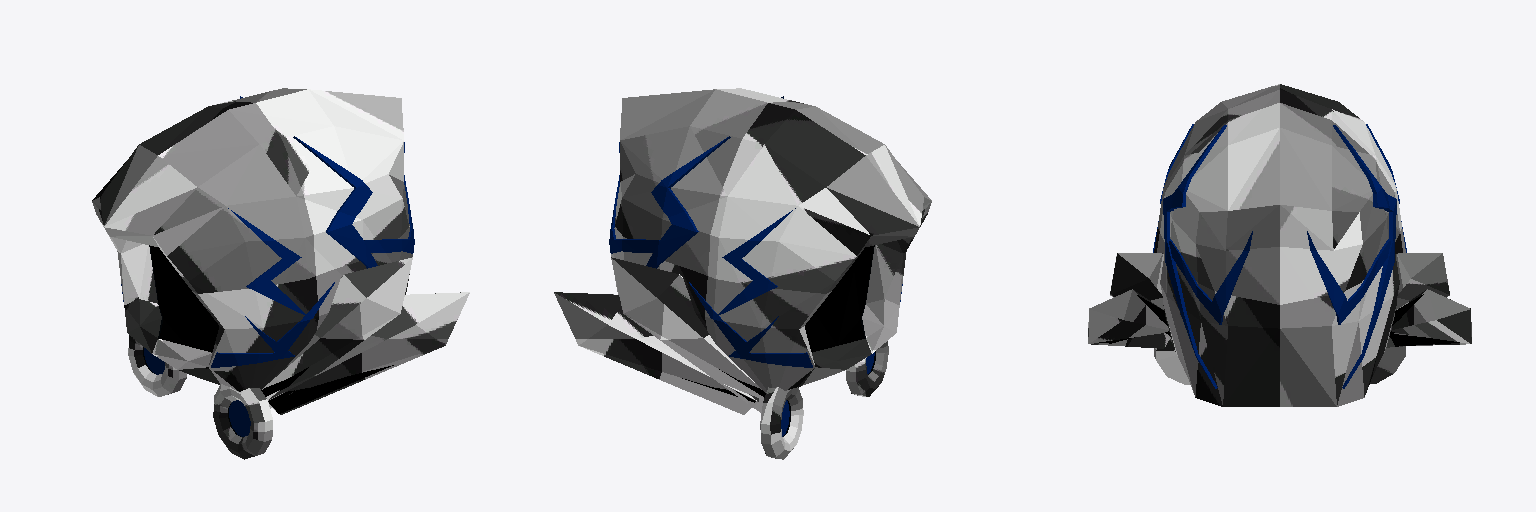
3 views of the same model, side by side, from view 1: azimuth 30°, elevation 25°; view 2: azimuth 150°, elevation 25°; view 3: azimuth 270°, elevation 25° (orthographic).
Visible parts, largest first — view 1: Mesheselectraorbitfr4, Mesheselectraorbitfr5, Mesheselectraorbitfr00113, Mesheselectraorbitfr00116, Mesheselectraorbitfr7, Mesheselectraorbitfr0021, Mesheselectraorbitfr0017, Mesheselectraorbitfr00111, Mesheselectraorbitfr00112, Mesheselectraorbitfr0019, Mesheselectraorbitfr0015, Mesheselectraorbitfr0011; view 2: Mesheselectraorbitfr6, Mesheselectraorbitfr5, Mesheselectraorbitfr00110, Mesheselectraorbitfr00116, Mesheselectraorbitfr7, Mesheselectraorbitfr0021, Mesheselectraorbitfr0017, Mesheselectraorbitfr00111, Mesheselectraorbitfr00112, Mesheselectraorbitfr0018; view 3: Mesheselectraorbitfr3, Mesheselectraorbitfr5, Mesheselectraorbitfr4, Mesheselectraorbitfr6, Mesheselectraorbitfr00116, Mesheselectraorbitfr00114, Mesheselectraorbitfr00113, Mesheselectraorbitfr00110, Mesheselectraorbitfr00115, Mesheselectraorbitfr0014, Mesheselectraorbitfr0019.
Part boxes in pixels (left/top/right/bottom): Mesheselectraorbitfr4: left=99, top=126, right=412, bottom=391; Mesheselectraorbitfr5: left=92, top=88, right=403, bottom=369; Mesheselectraorbitfr00113: left=262, top=258, right=469, bottom=414; Mesheselectraorbitfr00116: left=121, top=96, right=414, bottom=367; Mesheselectraorbitfr7: left=92, top=145, right=238, bottom=391; Mesheselectraorbitfr0021: left=150, top=246, right=218, bottom=352; Mesheselectraorbitfr0017: left=128, top=335, right=264, bottom=459; Mesheselectraorbitfr00111: left=269, top=275, right=415, bottom=399; Mesheselectraorbitfr00112: left=344, top=257, right=469, bottom=323; Mesheselectraorbitfr0019: left=261, top=365, right=393, bottom=413; Mesheselectraorbitfr0015: left=134, top=341, right=272, bottom=455; Mesheselectraorbitfr0011: left=144, top=348, right=250, bottom=436; Mesheselectraorbitfr6: left=611, top=126, right=924, bottom=392; Mesheselectraorbitfr5: left=620, top=88, right=931, bottom=369; Mesheselectraorbitfr00110: left=554, top=258, right=763, bottom=414; Mesheselectraorbitfr00116: left=609, top=96, right=902, bottom=367; Mesheselectraorbitfr7: left=788, top=145, right=931, bottom=389; Mesheselectraorbitfr0021: left=805, top=246, right=873, bottom=352; Mesheselectraorbitfr0017: left=770, top=341, right=888, bottom=459; Mesheselectraorbitfr00111: left=608, top=275, right=756, bottom=400; Mesheselectraorbitfr00112: left=554, top=257, right=679, bottom=323; Mesheselectraorbitfr0018: left=760, top=365, right=860, bottom=456; Mesheselectraorbitfr3: left=1195, top=205, right=1364, bottom=406; Mesheselectraorbitfr5: left=1185, top=84, right=1374, bottom=210; Mesheselectraorbitfr4: left=1154, top=109, right=1227, bottom=404; Mesheselectraorbitfr6: left=1332, top=109, right=1405, bottom=404; Mesheselectraorbitfr00116: left=1153, top=124, right=1406, bottom=388; Mesheselectraorbitfr00114: left=1088, top=253, right=1471, bottom=343; Mesheselectraorbitfr00113: left=1088, top=253, right=1469, bottom=348; Mesheselectraorbitfr00110: left=1090, top=253, right=1471, bottom=346; Mesheselectraorbitfr00115: left=1090, top=320, right=1469, bottom=343; Mesheselectraorbitfr0014: left=1156, top=338, right=1405, bottom=384; Mesheselectraorbitfr0019: left=1099, top=294, right=1459, bottom=346.
Bounding box in the file's own units: 2.88 × 2.78 × 3.13.
4 materials, 1 textured.